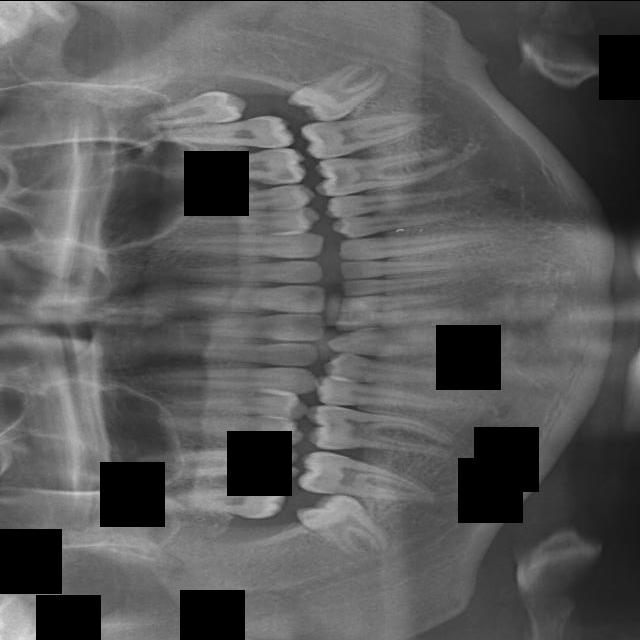AGS Medikal Implant: (165, 260, 322, 282)
AMerOss Implant: (142, 230, 325, 262)
Amalgam filling: (173, 205, 321, 242)
Anthogyr Implant: (177, 181, 317, 224)
Bicon Implant: (184, 147, 307, 188)
BioHorizons Implant: (151, 113, 295, 149)
BioLife Implant: (138, 89, 248, 127)
Biomet 3i Implant: (283, 47, 399, 137)
Blue Sky Bio Implant: (420, 119, 421, 119)
Camlog Implant: (311, 144, 459, 198)
Caries: (164, 483, 289, 522)
Composite filling: (322, 185, 471, 219)
Cowellmedi Implant: (330, 205, 473, 240)
Crown: (337, 229, 492, 261)
DENTSPLY Implant: (338, 257, 465, 279)
Dentatus Implant: (340, 271, 466, 296)
Dentis Implant: (338, 291, 461, 312)
Dentium Implant: (334, 305, 464, 331)
Euroteknika Implant: (327, 328, 478, 356)
Filling: (321, 350, 468, 388)
Frontier Implant: (313, 374, 467, 427)
Hiossen Implant: (171, 444, 301, 484)
Implant: (429, 493, 430, 494)
Implant Direct: (302, 403, 456, 461)
Keystone Dental Implant: (290, 474, 402, 573)
MIS Implant: (156, 406, 304, 447)
Mandible: (158, 378, 308, 421)
Maxilla: (126, 360, 315, 394)
Megagen Implant: (164, 341, 320, 365)
Neodent Implant: (159, 313, 327, 342)
Neoss Implant: (152, 284, 326, 313)
